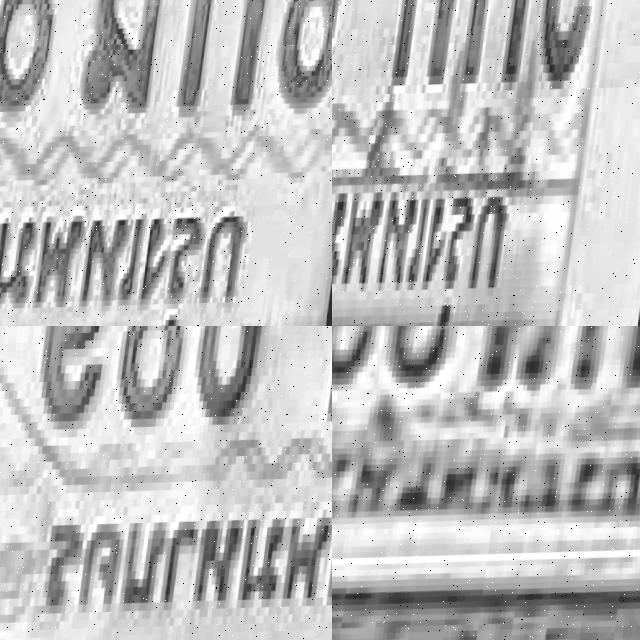license-plate: (0, 0, 332, 326), (0, 326, 332, 640), (332, 0, 640, 326), (332, 326, 640, 615)
